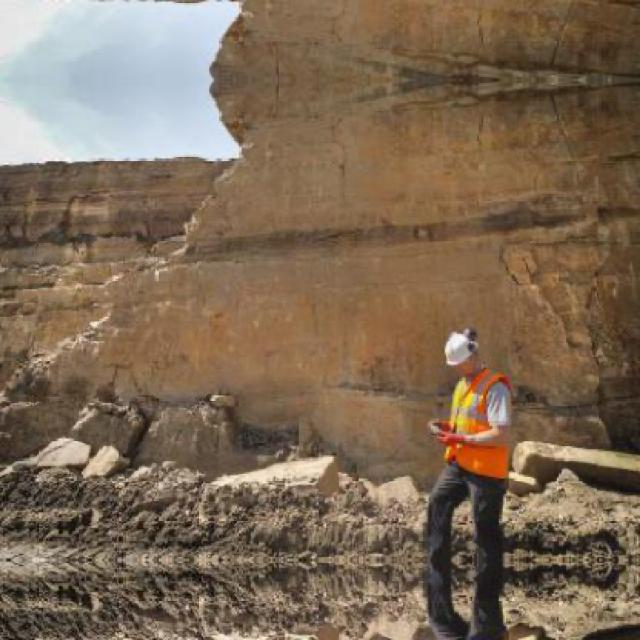helmet: (445, 330, 480, 376)
